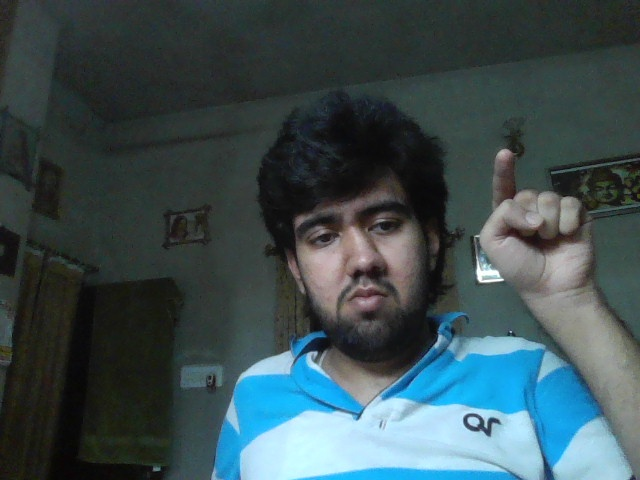You: (480, 148, 593, 284)
